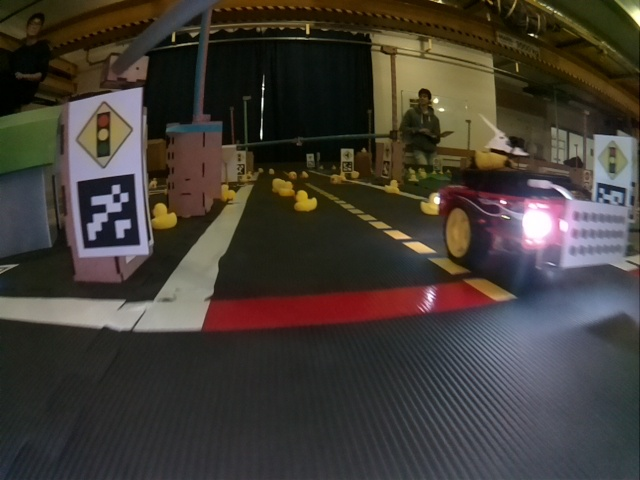Duckie: (150, 203, 177, 229), (293, 190, 316, 212), (384, 180, 399, 195)
Duckiebot: (437, 183, 620, 271)
QR code: (76, 175, 142, 250)
Signal sign: (71, 96, 137, 168)
